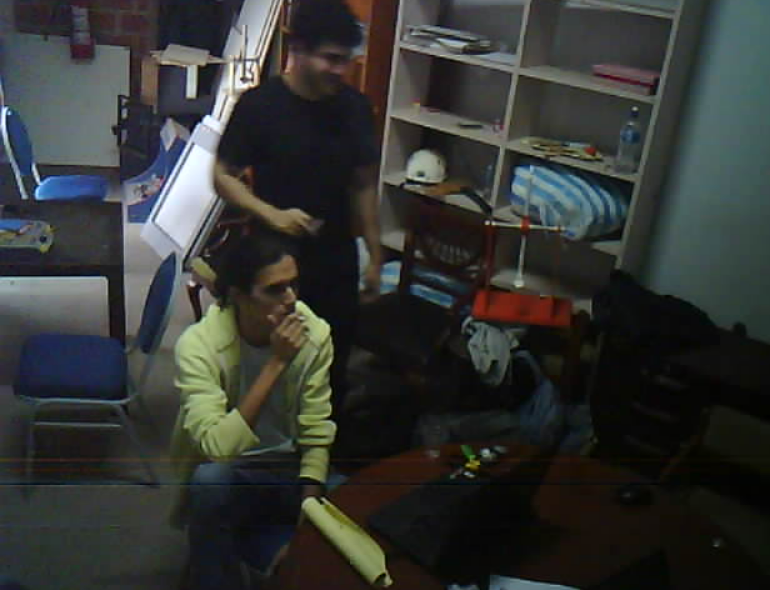person: (158, 239, 344, 590), (207, 0, 393, 348)
